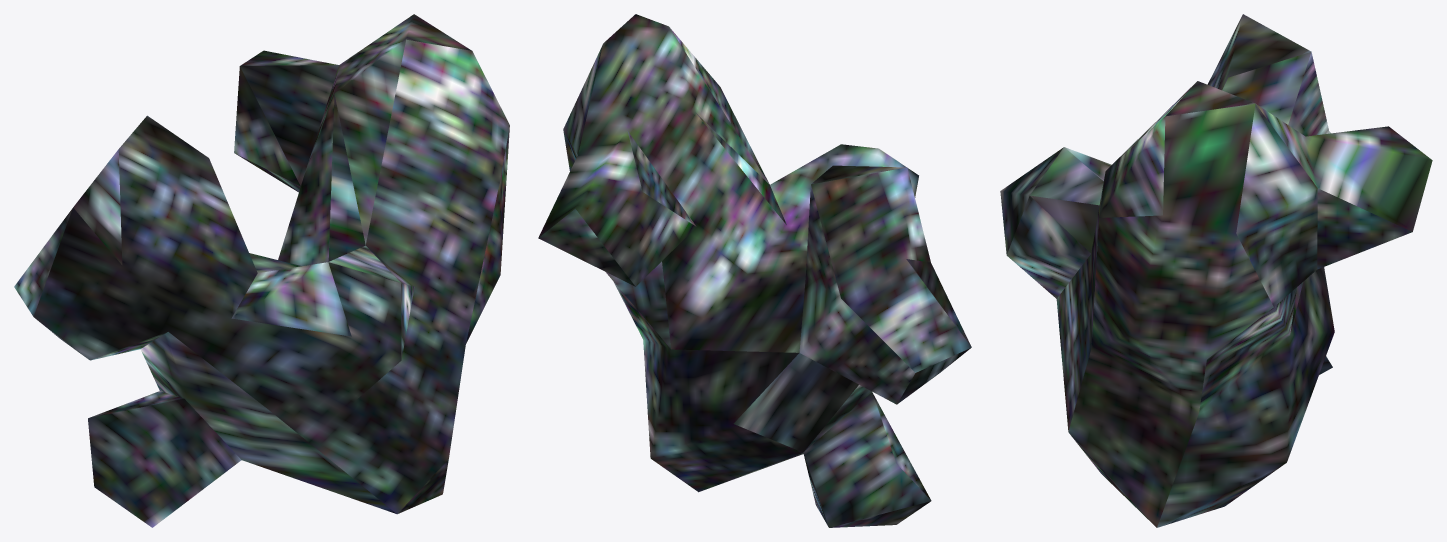
File: blue-organic-matter.fbx
3 renders of one model, left to right at view 1: azimuth 30°, elevation 25°; view 2: azimuth 150°, elevation 25°; view 3: azimuth 270°, elevation 25°, orthographic.
Parts seen in each view (by area): view 1: Mball.007; view 2: Mball.007; view 3: Mball.007.
Part boxes in pixels (x1,y1,x2,y2): Mball.007: [14, 14, 509, 527]; Mball.007: [538, 14, 971, 527]; Mball.007: [1000, 14, 1432, 527].
Bounding box in the file's own units: 345 × 348 × 305.
